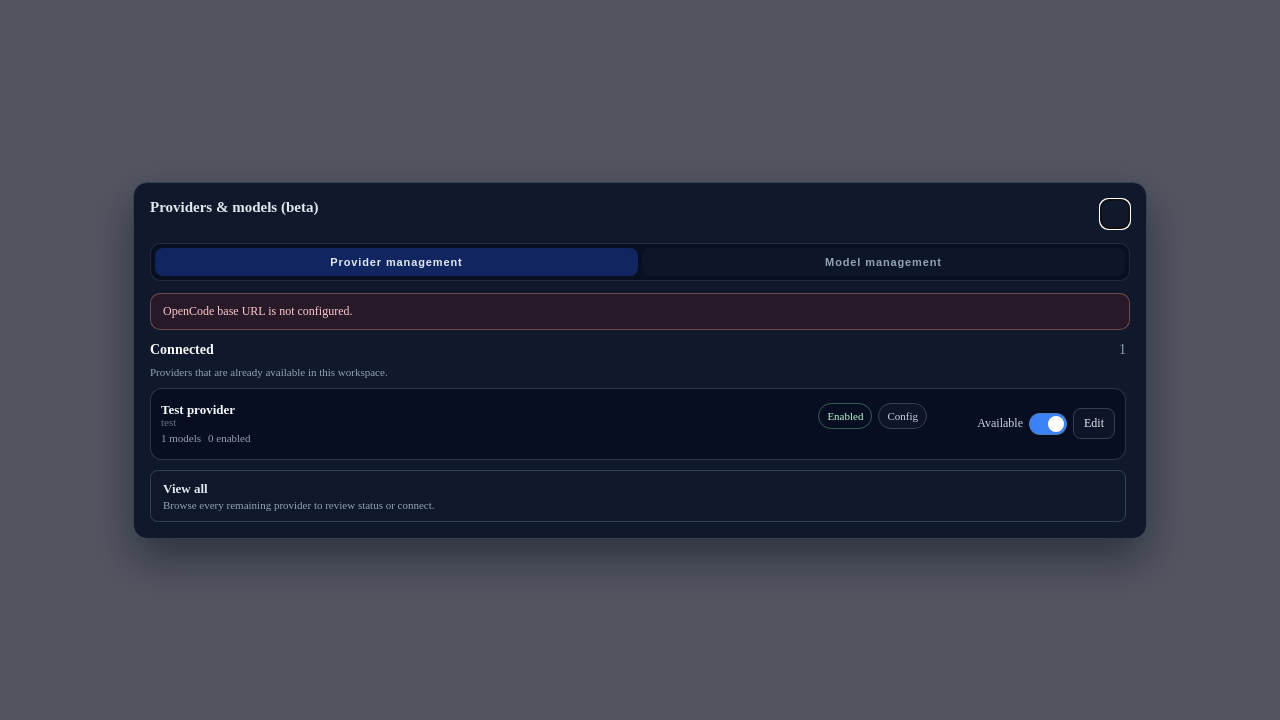
Test: uses the same shared provider tabs, installed rows and discovery catalog as other backends
Expected: the button "Edit" is shown, [1073,408,1115,439]
Expected: the element that starts with "Test provider" is shown, [161,402,235,417]
Step 1. Click the button that starts with "View all" → (185, 488), box [150,470,1126,522]
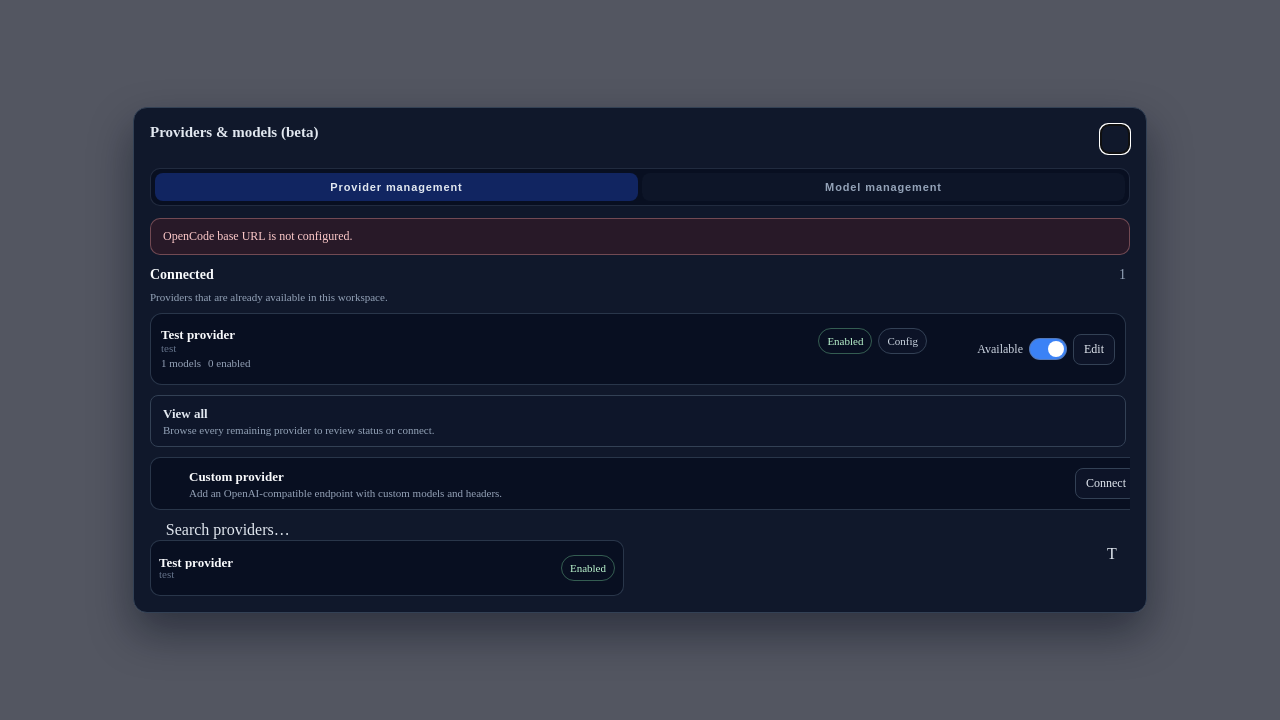
Now the element with class "custom-provider-entry" is shown, box [150,457,1130,510]
Now the element showing "Test provider test Enabled" is shown, box [150,540,624,596]
